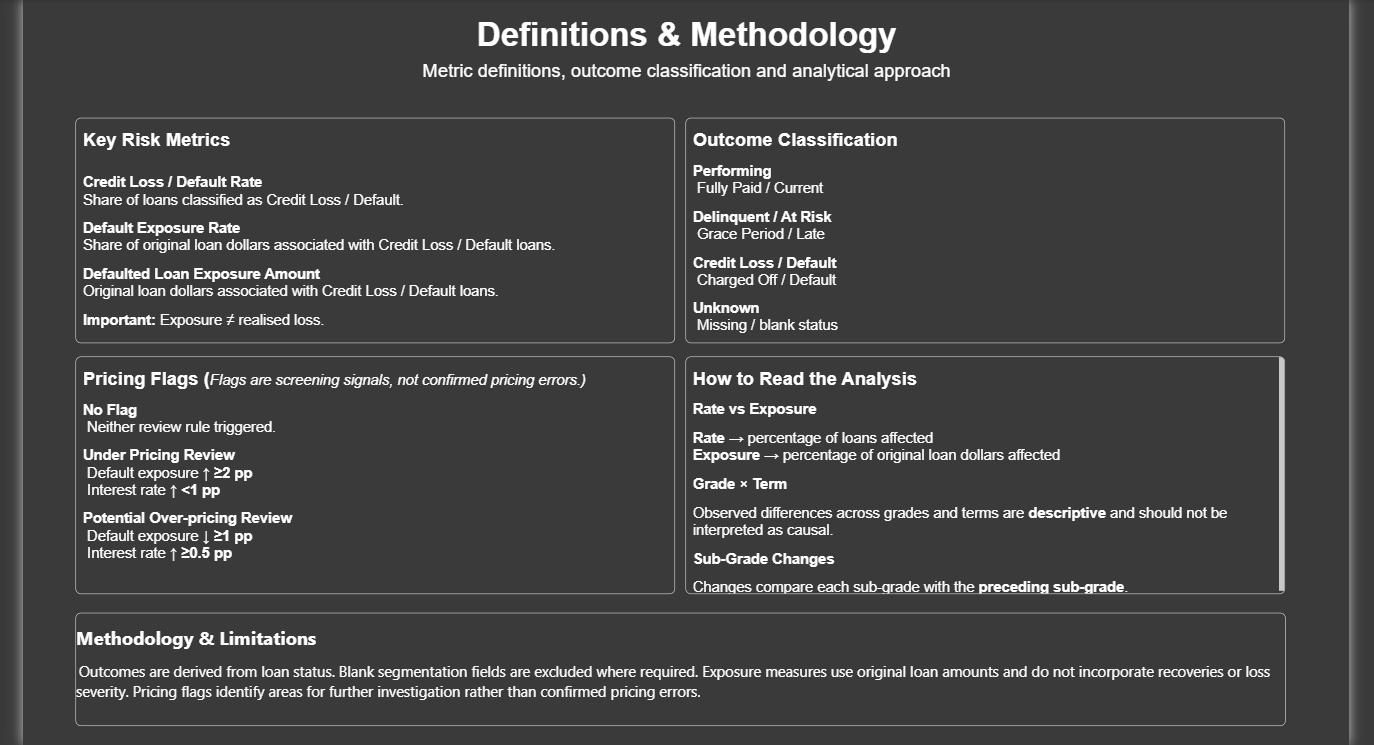

The dashboard page shown, as its layout file describes it:
{"tool":"powerbi","page":{"name":"Definitions & Methodology","canvas":[1920,1080],"ordinal":3},"visuals":[{"type":"textbox","box":[410,24,1100,64],"z":0},{"type":"textbox","box":[410,88,1100.3,47.1],"z":1000},{"type":"textbox","box":[150,275,300,300],"z":2000},{"type":"textbox","title":"Key Risk Metrics","box":[76,172,868,326],"z":3000},{"type":"textbox","title":"Key Risk Metrics","box":[960,172,868,326],"z":4000},{"type":"textbox","title":"Key Risk Metrics","box":[76,518,868,344],"z":5000},{"type":"textbox","title":"Key Risk Metrics","box":[960,518,868,344],"z":6000},{"type":"textbox","title":"Key Risk Metrics","box":[76,888,1752,164],"z":7000}]}

Visuals, with their boxes on the page's 1920x1080 design canvas (x1, y1, x2, y2). These are canvas units, not pixel positions in the 1374x745 screenshot, which may show the page scaled, cropped or inside an application window:
textbox: {"x1": 410, "y1": 24, "x2": 1510, "y2": 88}
textbox: {"x1": 410, "y1": 88, "x2": 1510, "y2": 135}
textbox: {"x1": 150, "y1": 275, "x2": 450, "y2": 575}
"Key Risk Metrics" textbox: {"x1": 76, "y1": 172, "x2": 944, "y2": 498}
"Key Risk Metrics" textbox: {"x1": 960, "y1": 172, "x2": 1828, "y2": 498}
"Key Risk Metrics" textbox: {"x1": 76, "y1": 518, "x2": 944, "y2": 862}
"Key Risk Metrics" textbox: {"x1": 960, "y1": 518, "x2": 1828, "y2": 862}
"Key Risk Metrics" textbox: {"x1": 76, "y1": 888, "x2": 1828, "y2": 1052}
